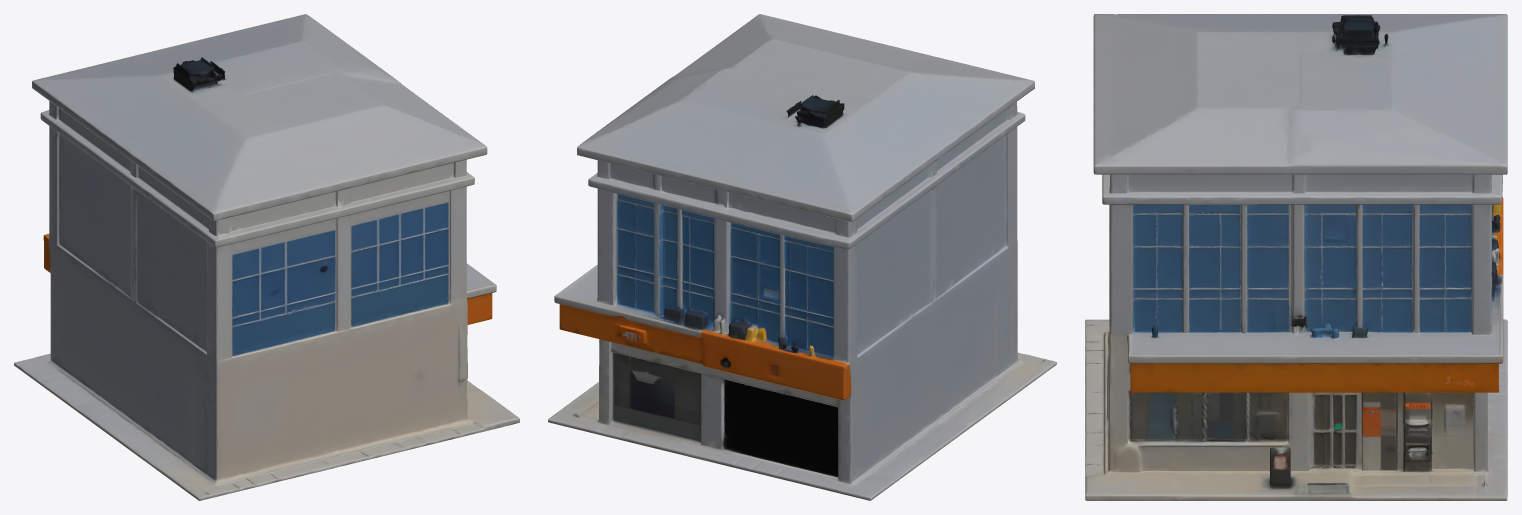
File: bank.glb
3 views of the same model, side by side, from view 1: azimuth 30°, elevation 25°; view 2: azimuth 150°, elevation 25°; view 3: azimuth 270°, elevation 25° (orthographic). The views are drawn at different scales.
Parts seen in each view (by area): view 1: tripo_node_bccdc1f5-5006-41fc-991d-d80cd02e60f7; view 2: tripo_node_bccdc1f5-5006-41fc-991d-d80cd02e60f7; view 3: tripo_node_bccdc1f5-5006-41fc-991d-d80cd02e60f7.
Part boxes in pixels (x1,y1,x2,y2): tripo_node_bccdc1f5-5006-41fc-991d-d80cd02e60f7: (14,14,519,500); tripo_node_bccdc1f5-5006-41fc-991d-d80cd02e60f7: (548,14,1056,500); tripo_node_bccdc1f5-5006-41fc-991d-d80cd02e60f7: (1085,14,1507,500).
Bounding box in the file's own units: 13.61 × 13 × 13.62.
Materials: 1 (1 with a texture image).
